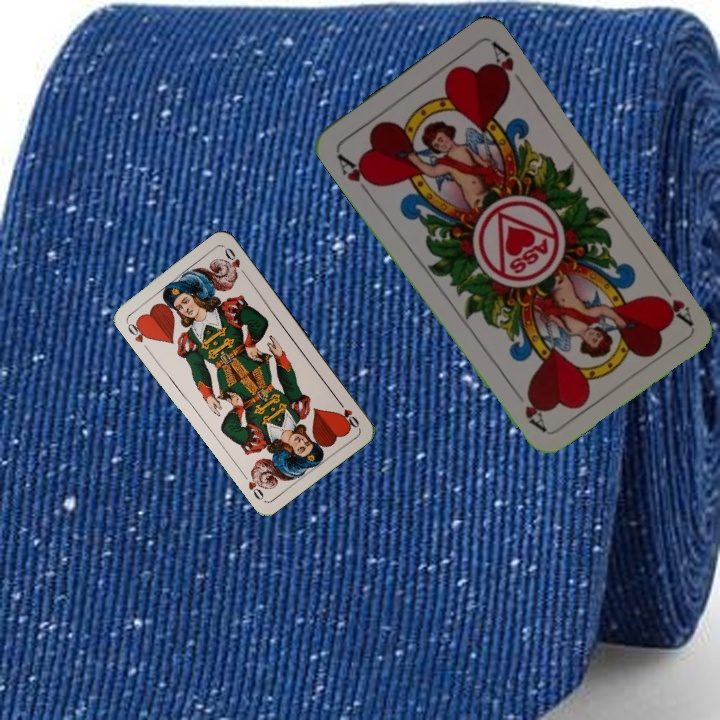HA: (333, 149, 381, 199), (653, 275, 695, 328)
HO: (333, 395, 362, 431), (122, 316, 153, 345)
